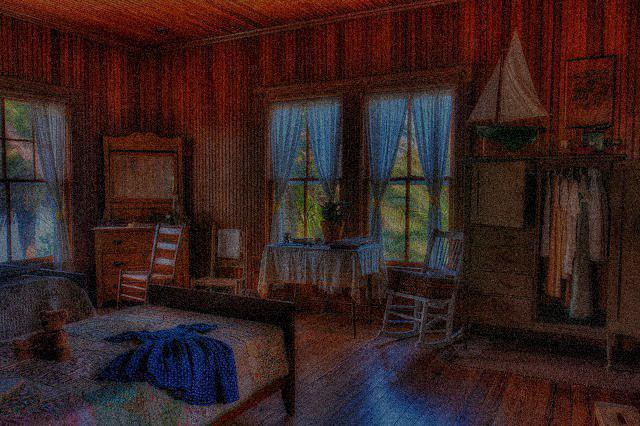Matera: (315, 198, 349, 246)
